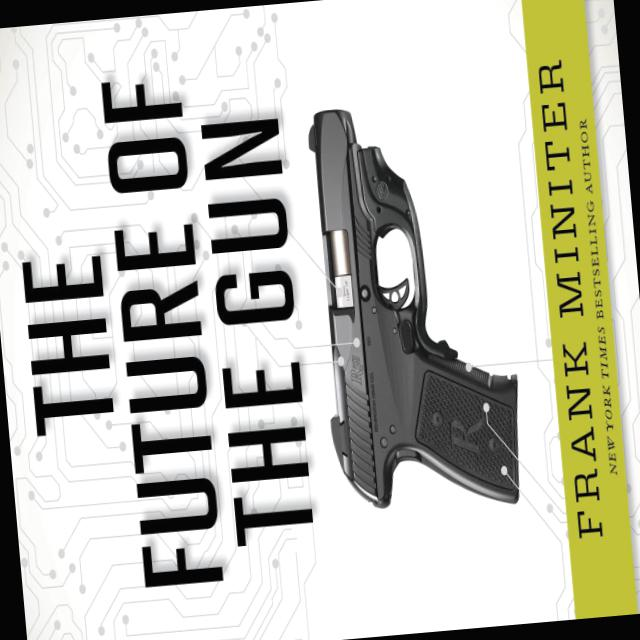handgun: (301, 90, 531, 533)
